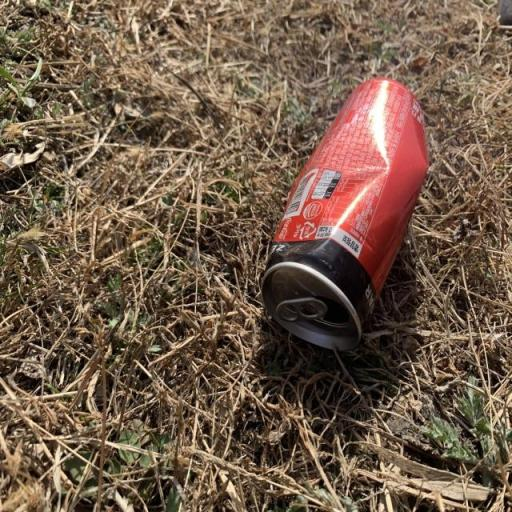metal: (243, 70, 443, 371)
